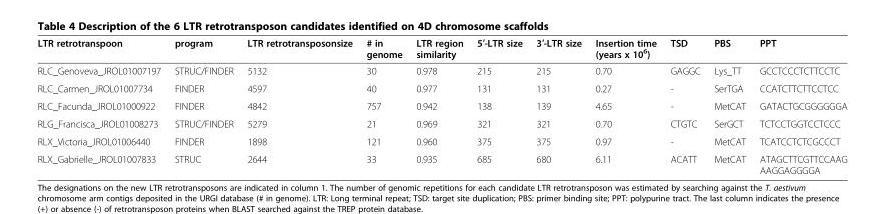table: (36, 36, 846, 175)
table column: (36, 36, 167, 175), (239, 36, 358, 175), (752, 36, 846, 175), (587, 36, 662, 175), (167, 36, 239, 175), (408, 36, 469, 175), (469, 36, 528, 175), (528, 36, 587, 175), (358, 36, 408, 175), (706, 36, 752, 175), (662, 36, 706, 175)
table column header: (36, 36, 846, 62)
table row: (36, 36, 846, 62), (36, 149, 846, 175), (36, 96, 846, 114), (36, 114, 846, 132), (36, 62, 846, 79), (36, 79, 846, 96), (36, 132, 846, 149)
